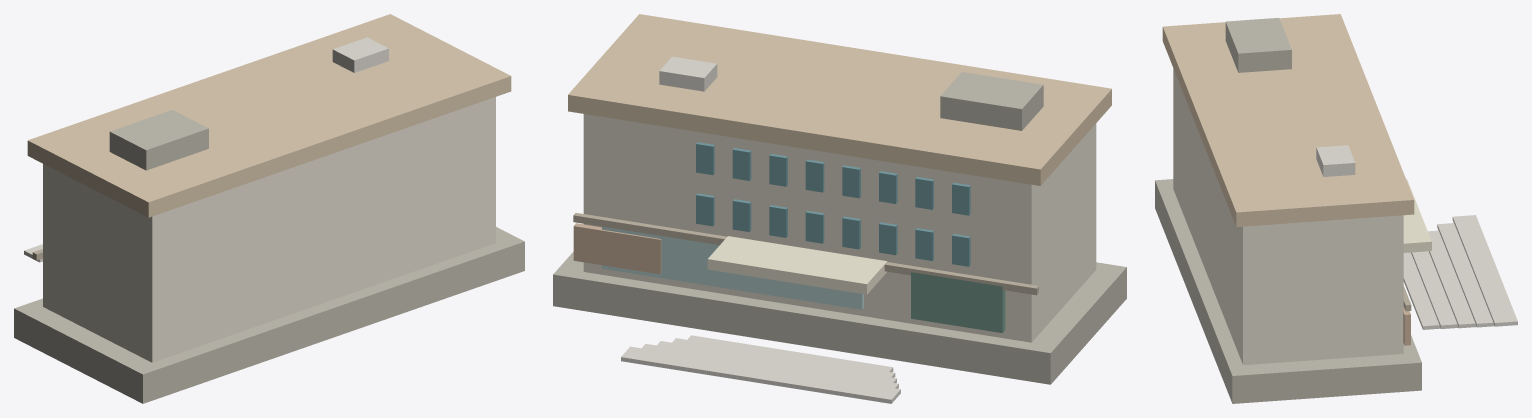
The model's file is immanuel-overview.glb.
3 renders of one model, left to right at view 1: azimuth 30°, elevation 25°; view 2: azimuth 150°, elevation 25°; view 3: azimuth 270°, elevation 25°, orthographic. The views are drawn at different scales.
Bounding box in the file's own units: 27.94 × 12.8 × 20.5.
